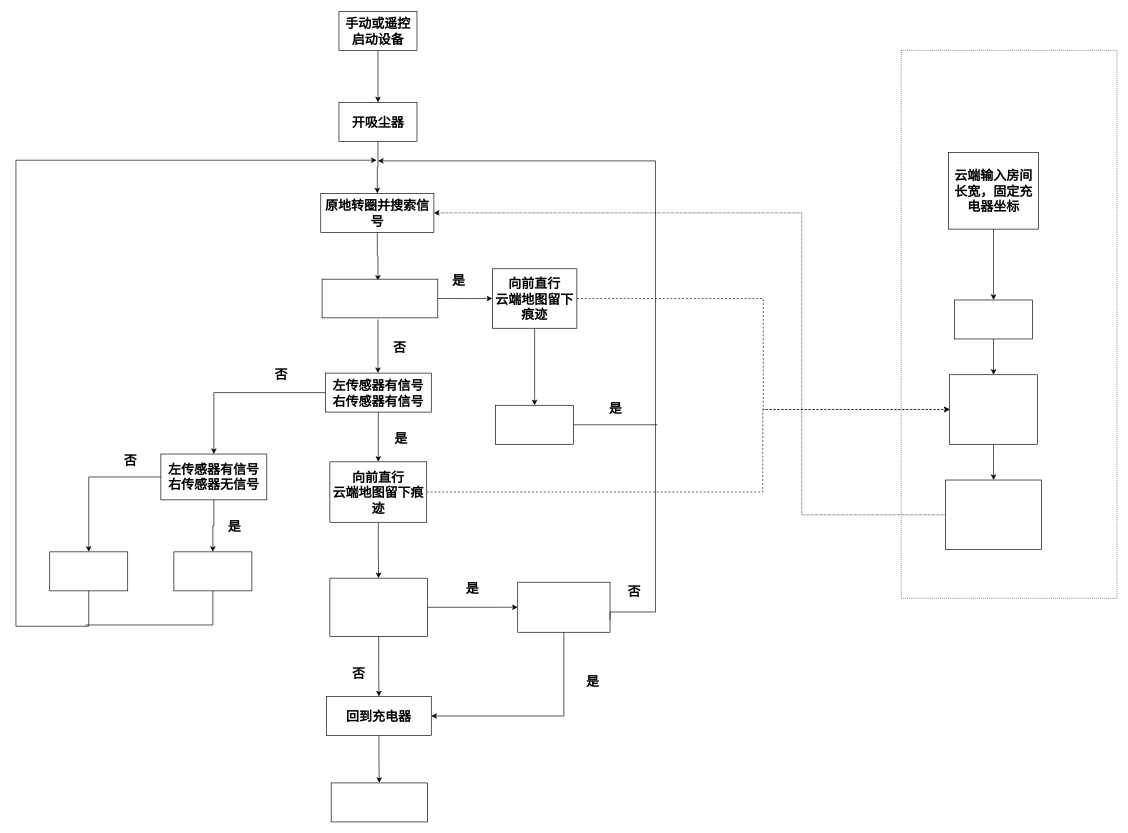
This 1128x833 diagram has some shape labels left out. The centre of each missing label's shape, as x and y in pixels:
"右转弯 然后直行" goes at (88,571).
"实时显示机器人位置 已清理留下绿线" goes at (993,409).
"左右传感器都没有信号？" goes at (379,298).
"左转弯 然后直行" goes at (212,571).
"已留下痕迹判断为障碍物" goes at (993,514).
"扫描云端地图，少于90%未覆盖" goes at (378,607).
"时间大于1h" goes at (563,607).
"有障碍物" goes at (534,424).
"机器人GPS定位" goes at (993,319).
"结束" goes at (379,802).
